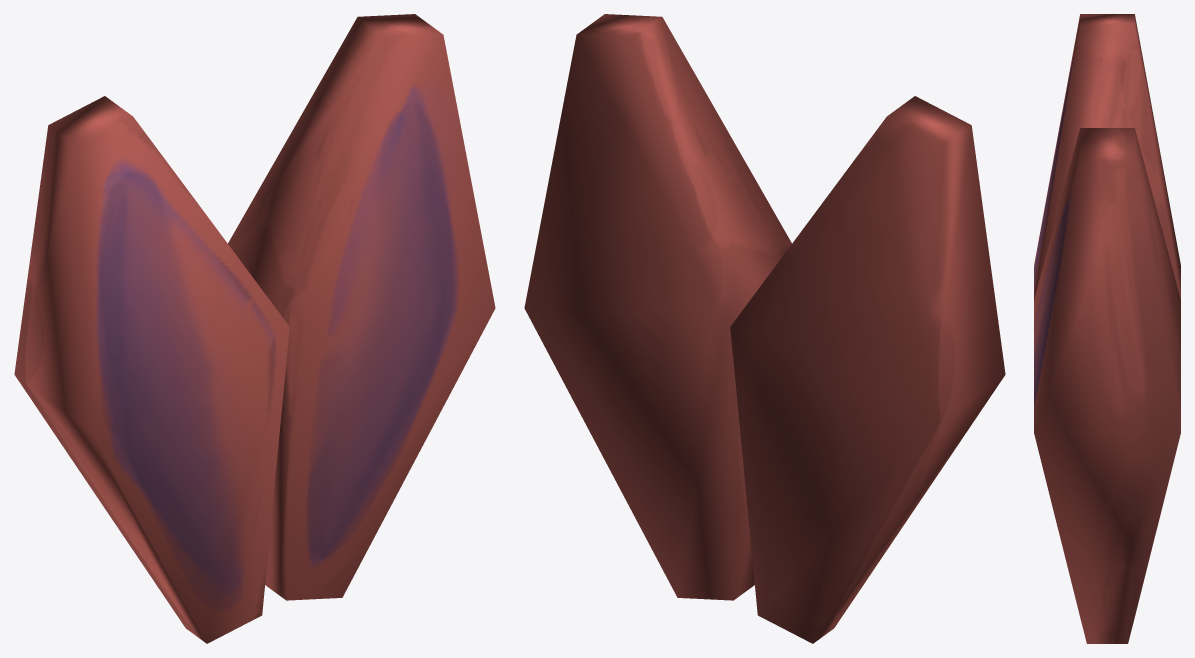
Rendered from Seed_Red.fbx.
The picture shows the model from 3 angles, left to right: view 1: azimuth 30°, elevation 25°; view 2: azimuth 150°, elevation 25°; view 3: azimuth 270°, elevation 25°; orthographic projection. The views are drawn at different scales.
Visible parts, largest first — view 1: SeedRed:pCube8, SeedRed:pCube9; view 2: SeedRed:pCube8, SeedRed:pCube9; view 3: SeedRed:pCube9, SeedRed:pCube8.
Boxes of the visible parts, <box> form: SeedRed:pCube8: <box>14,96,289,643</box>; SeedRed:pCube9: <box>228,14,495,600</box>; SeedRed:pCube8: <box>730,96,1005,643</box>; SeedRed:pCube9: <box>524,14,791,600</box>; SeedRed:pCube9: <box>1034,128,1180,643</box>; SeedRed:pCube8: <box>1034,14,1180,299</box>.
Bounding box in the file's own units: 1.1 × 1.47 × 0.3571.
Materials: 1 (1 with a texture image).
